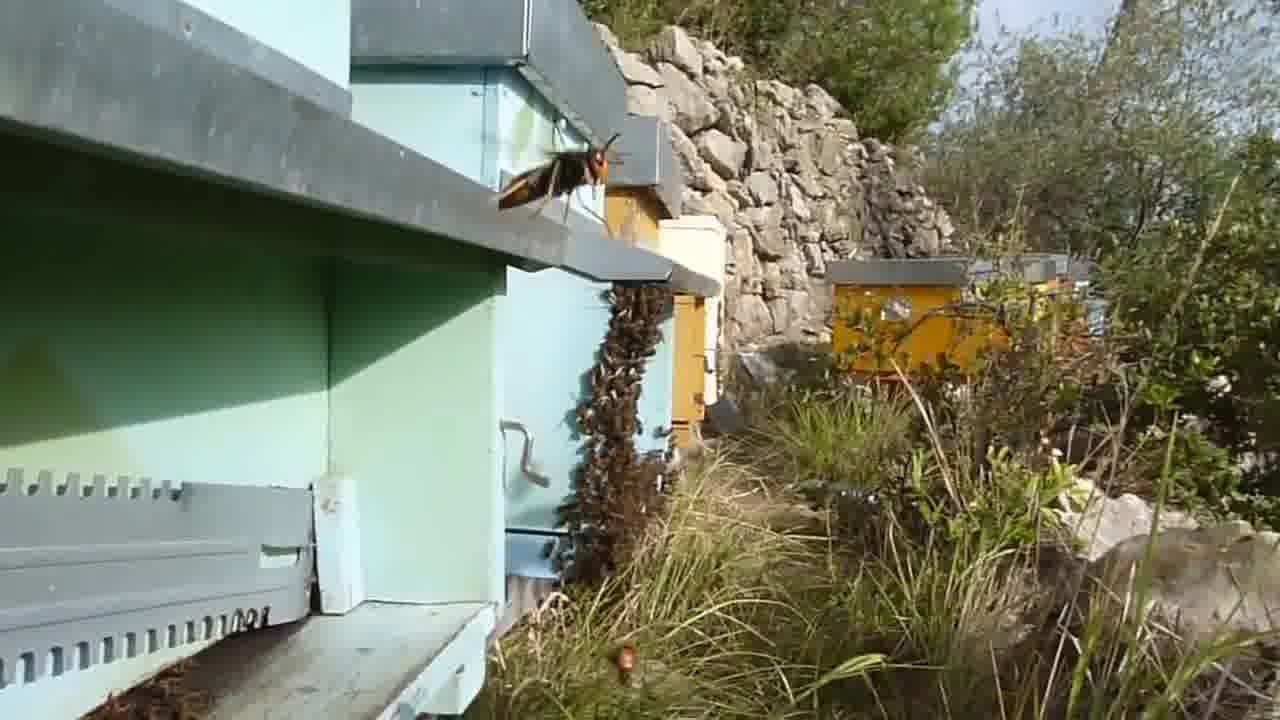bee: (563, 444, 642, 521), (580, 357, 648, 441), (603, 276, 674, 353), (536, 528, 619, 574), (150, 662, 187, 712)
hornet: (477, 132, 631, 217)
